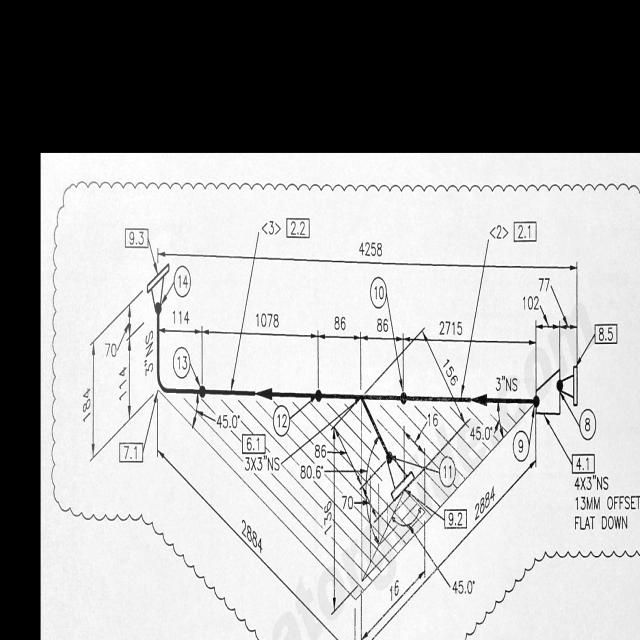Item number: (283, 215, 311, 242), (511, 219, 539, 245), (117, 440, 143, 465), (124, 225, 150, 250), (594, 321, 619, 347), (443, 506, 469, 531), (239, 432, 267, 455), (571, 452, 596, 474)
Measrement: (157, 428, 356, 639), (367, 450, 536, 639), (156, 232, 581, 276), (361, 549, 429, 639), (298, 399, 374, 460), (407, 315, 537, 350), (203, 304, 319, 342), (322, 428, 345, 616), (414, 320, 461, 399), (307, 313, 406, 346), (399, 403, 463, 445), (537, 274, 578, 332), (97, 297, 133, 361), (192, 394, 242, 439), (112, 328, 135, 425), (82, 334, 98, 463), (520, 285, 560, 335), (464, 413, 505, 449), (158, 304, 201, 337), (241, 453, 284, 481), (447, 564, 481, 598), (490, 370, 526, 398), (142, 324, 160, 379), (342, 491, 372, 518), (299, 461, 325, 488)
Pipeline: (154, 312, 533, 412), (355, 393, 392, 461)
Symbol: (146, 305, 209, 412), (383, 446, 414, 506), (145, 258, 171, 316), (555, 363, 581, 409), (252, 382, 276, 404)
Weld number: (171, 342, 193, 380), (172, 261, 192, 299), (368, 274, 388, 312), (271, 402, 292, 438), (511, 429, 531, 466), (580, 405, 598, 442), (439, 455, 457, 487)
other: (570, 473, 638, 533)
